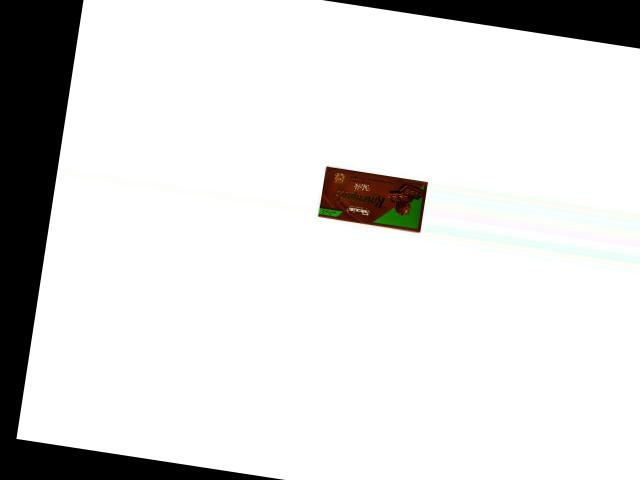chocolate: (314, 163, 429, 236)
